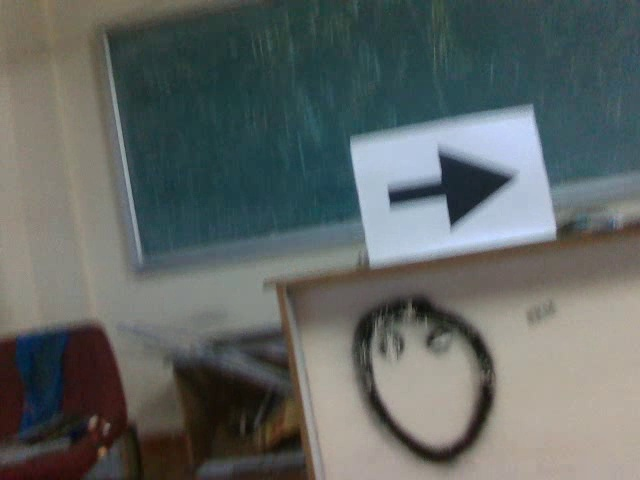Right: (370, 140, 520, 235)
